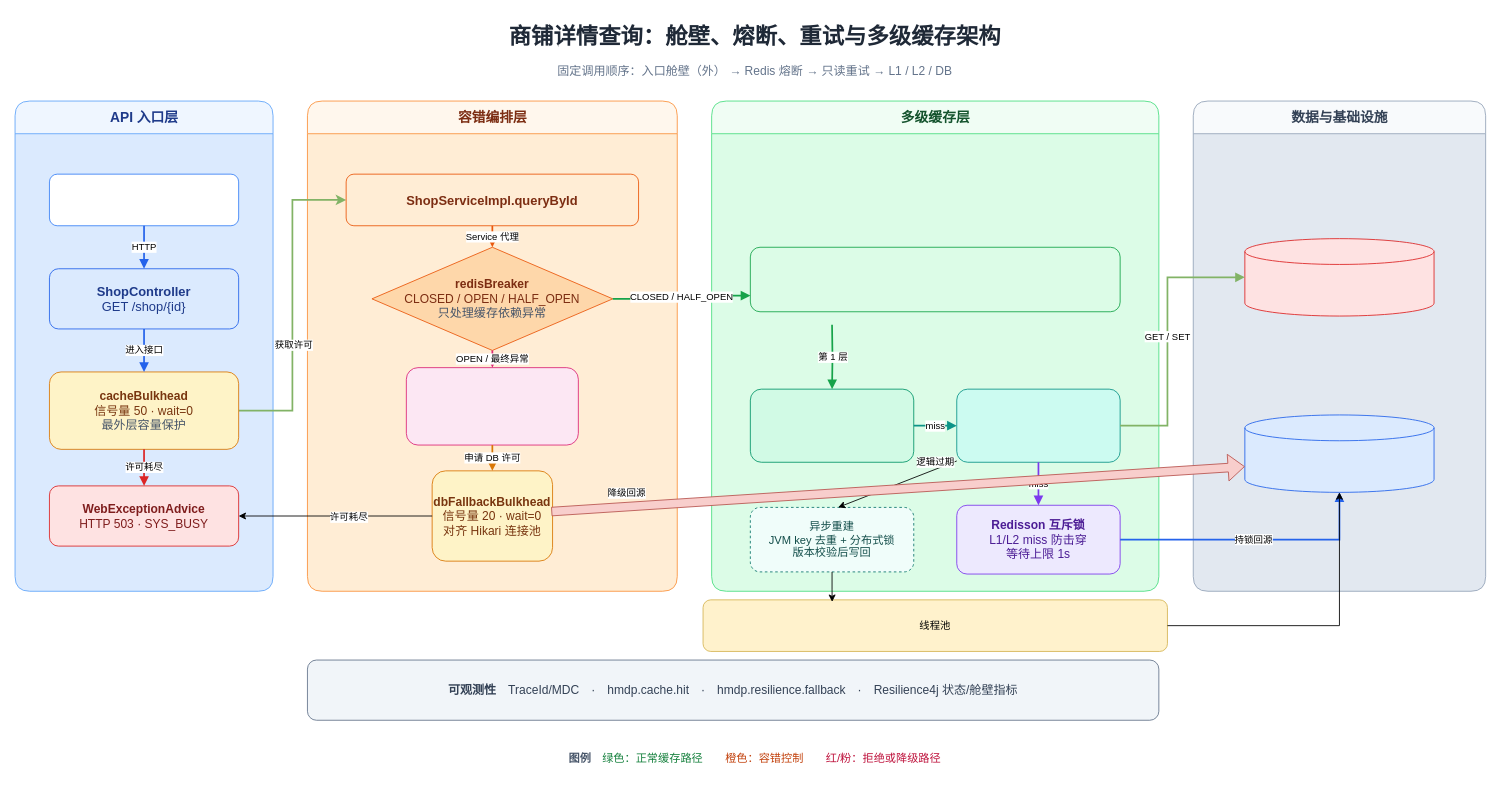
This 1501x795 diagram has some shape labels left out. Each missing label, with the centre of its shape:
"cacheQueryRetry 最多 2 次 · 100ms 退避 只读幂等路径" belongs at (x=934, y=279).
"L1 · Caffeine JVM 本地缓存 · 30s 命中：直接返回" belongs at (x=831, y=425).
"L2 · Redis 逻辑过期 + 空值保护 过期：返回旧值并异步重建" belongs at (x=1038, y=425).
"MySQL 商铺事实源" belongs at (x=1339, y=453).
"queryByIdFallback Redis 异常 / 熔断打开 不再访问故障中的缓存" belongs at (x=491, y=406).
"Redis cache:shop:{id}" belongs at (x=1339, y=277).
"客户端 / 前端" belongs at (x=144, y=199).
